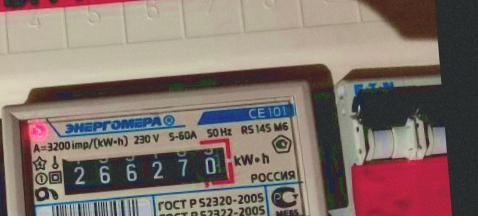0: (203, 153, 217, 175)
2: (71, 163, 87, 185), (150, 158, 164, 180)
6: (97, 163, 112, 184), (123, 161, 138, 181)
7: (175, 156, 190, 178)
screen: (51, 133, 242, 204)
